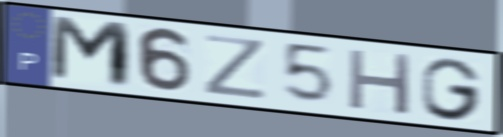5: (279, 42, 336, 108)
6: (134, 24, 194, 95)
G: (419, 55, 485, 122)
H: (346, 46, 416, 117)
M: (47, 13, 135, 92)
Z: (201, 32, 270, 102)
